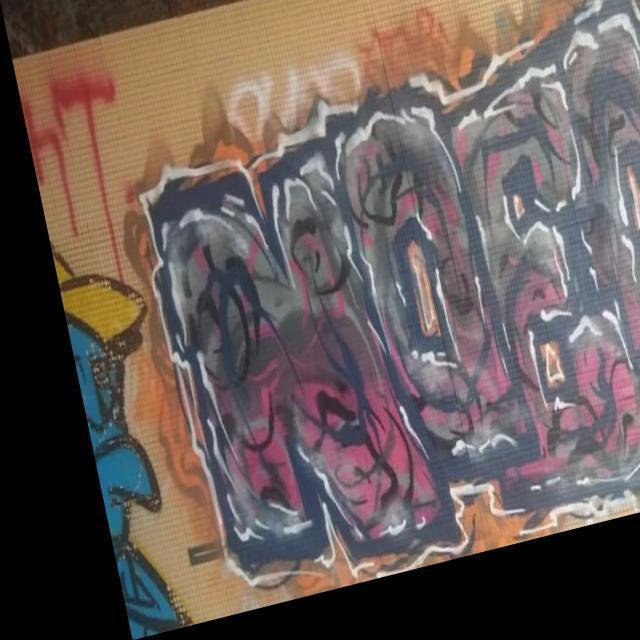nonspitting: (151, 4, 640, 567)
